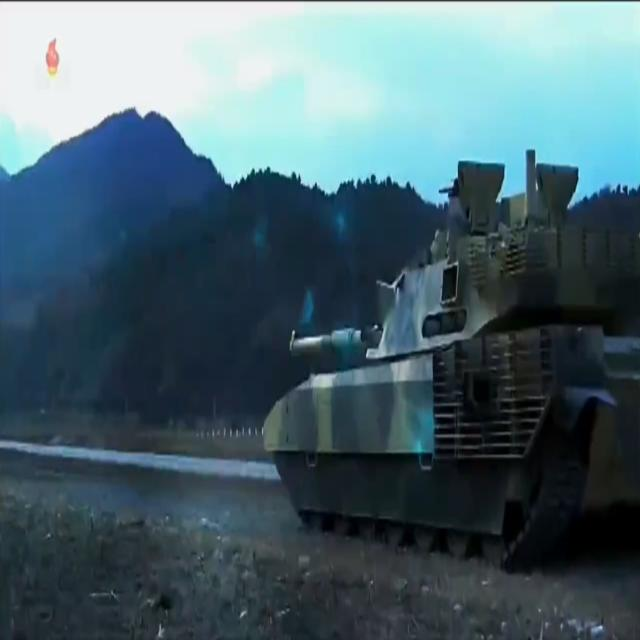north tank: (258, 138, 640, 593)
